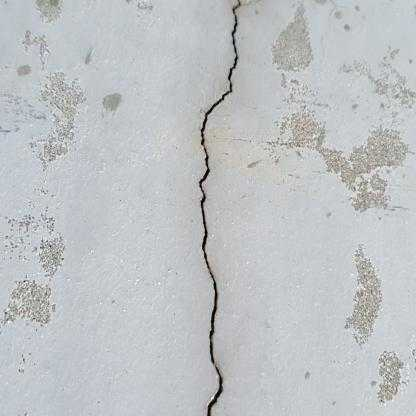crack: (198, 0, 241, 416)
